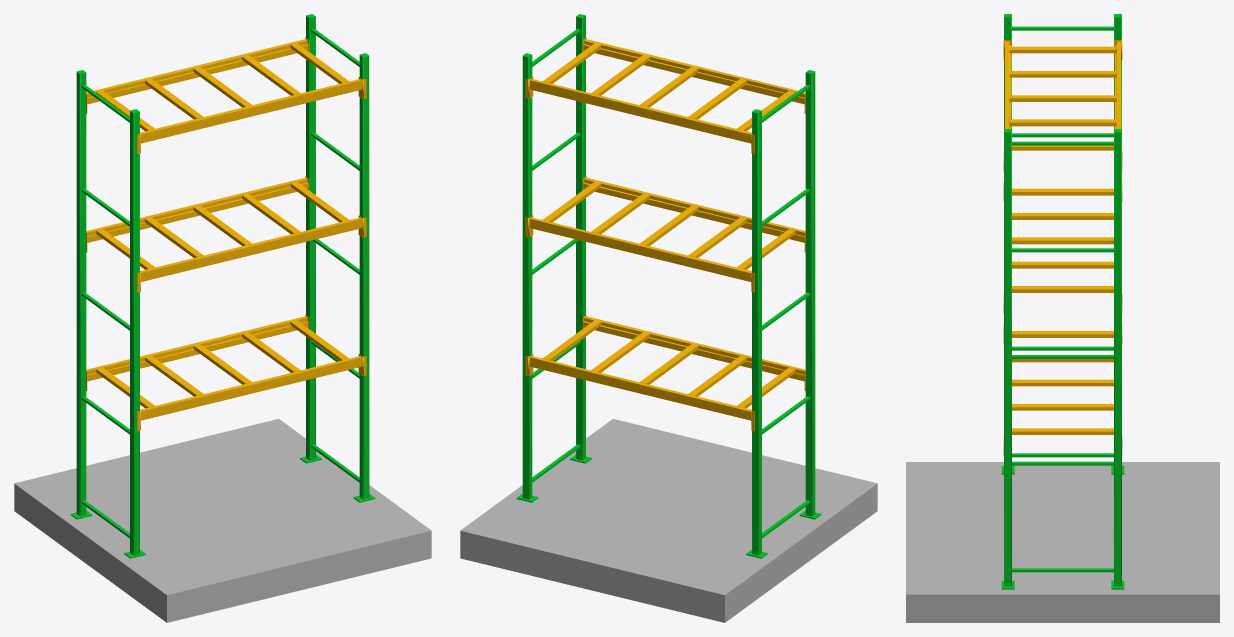
Rendered from palletRack.dae.
3 renders of one model, left to right at view 1: azimuth 30°, elevation 25°; view 2: azimuth 150°, elevation 25°; view 3: azimuth 270°, elevation 25°, orthographic. The views are drawn at different scales.
Visible parts, largest first — view 1: Pallet_Rack; view 2: Pallet_Rack; view 3: Pallet_Rack.
Boxes of the visible parts, x1,y1,x2,y2 form: Pallet_Rack: (14, 14, 431, 622); Pallet_Rack: (460, 14, 877, 622); Pallet_Rack: (906, 14, 1219, 622).
Bounding box in the file's own units: 3.05 × 3.05 × 5.18.
